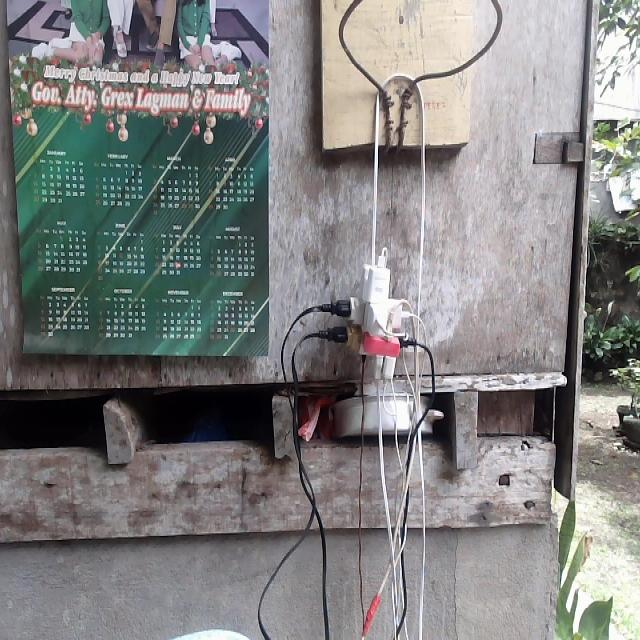-: (338, 253, 415, 384)
